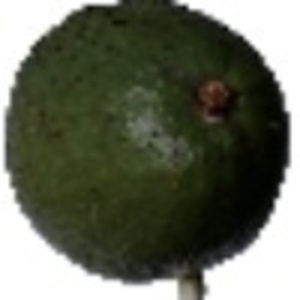abacate: (4, 2, 290, 286)
